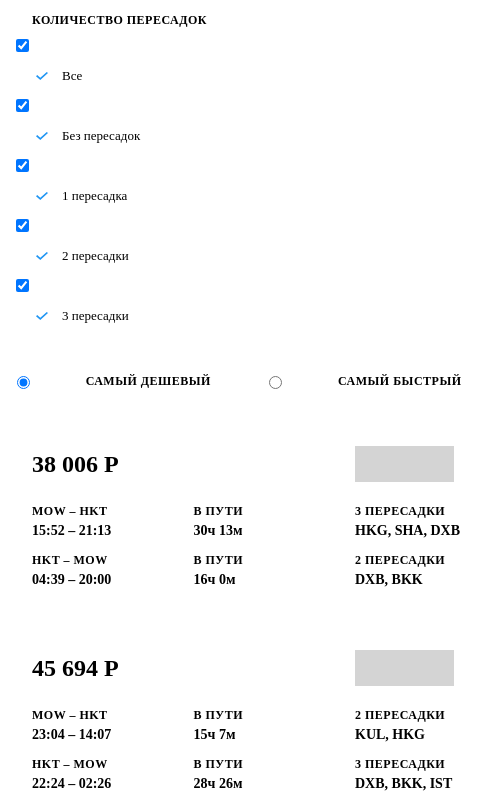
Test: should filter
Click the checkbox labelled "Все" at (22,46), box [16,39,29,52]
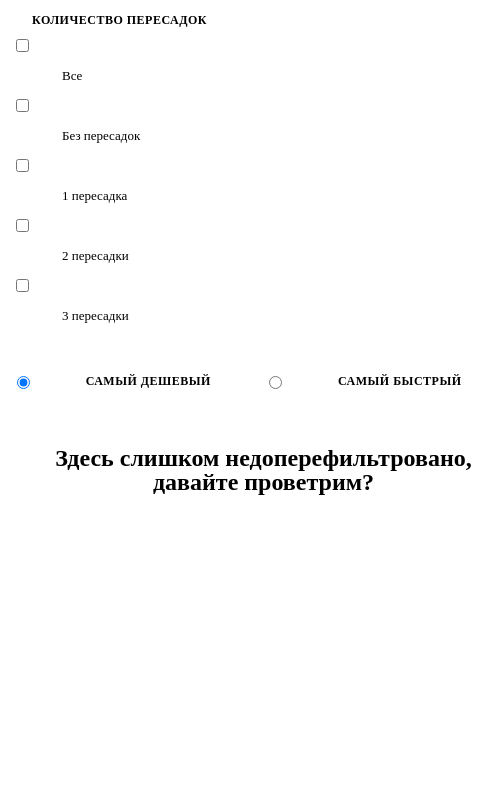
Expected: the checkbox labelled "Все" is not checked, [16,39,29,52]
Expected: the text "Здесь слишком недоперефильтровано, давайте проветрим?" is shown, [55,445,472,495]
